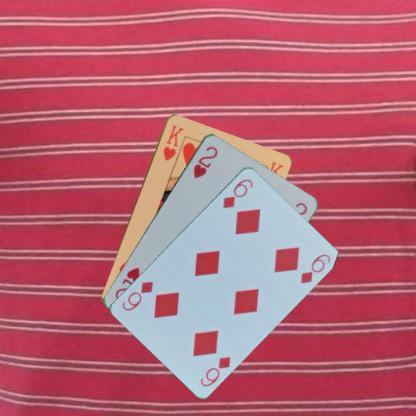2h: (191, 143, 219, 179)
6d: (198, 353, 233, 388), (220, 176, 254, 210)
Kh: (160, 122, 185, 162)
